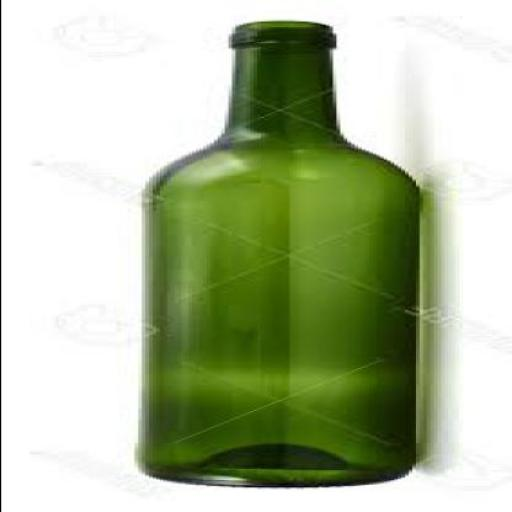glass: (133, 23, 418, 490)
